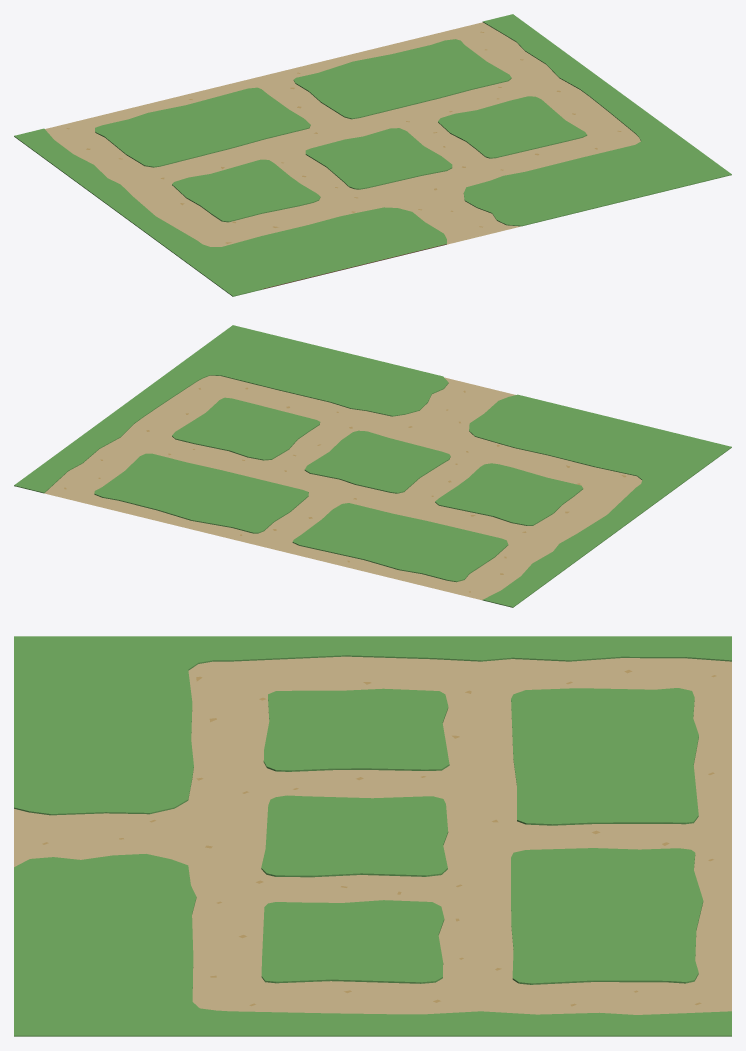
File: dimian_04.FBX
3 views of the same model, one above another, from view 1: azimuth 30°, elevation 25°; view 2: azimuth 150°, elevation 25°; view 3: azimuth 270°, elevation 25° (orthographic). The views are drawn at different scales.
Visible parts, largest first — view 1: Object166; view 2: Object166; view 3: Object166.
Part boxes in pixels (x1,y1,x2,y2): Object166: [14, 14, 731, 296]; Object166: [14, 325, 731, 607]; Object166: [14, 636, 731, 1036].
Bounding box in the file's own units: 16958 × 53.23 × 12885.
